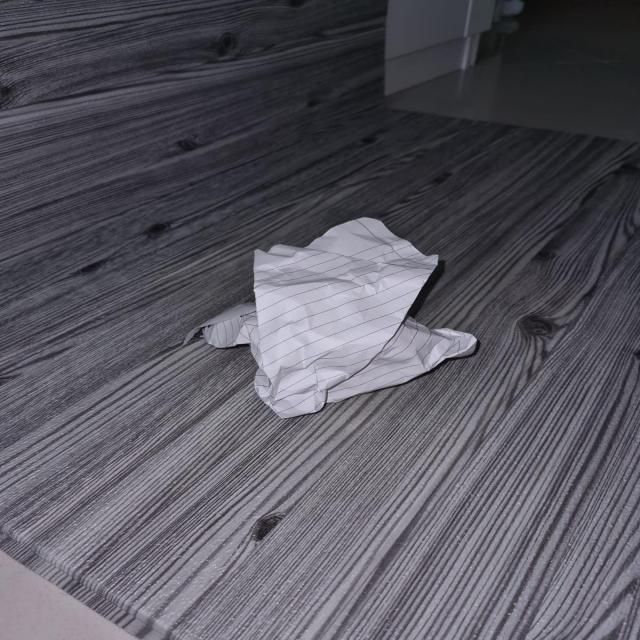paper: (208, 216, 468, 414)
